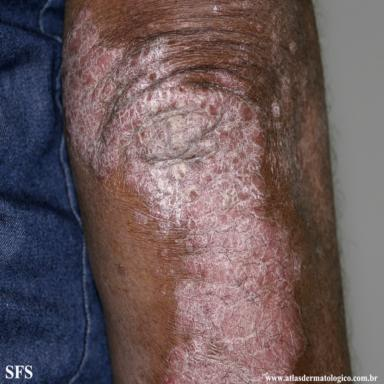Psoriasis: (65, 10, 304, 382)
